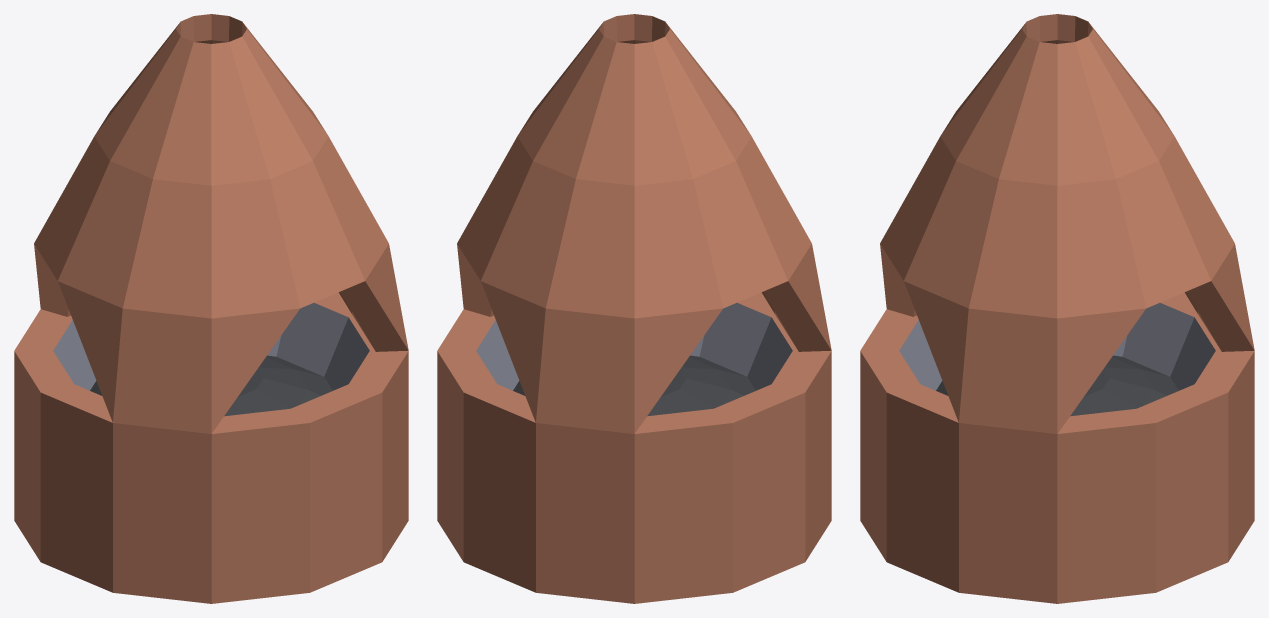
File: Furnace.fbx
3 views of the same model, side by side, from view 1: azimuth 30°, elevation 25°; view 2: azimuth 150°, elevation 25°; view 3: azimuth 270°, elevation 25° (orthographic).
Parts seen in each view (by area): view 1: Furnace; view 2: Furnace; view 3: Furnace.
Part boxes in pixels (bbox=[...]): Furnace: bbox=[14, 14, 408, 603]; Furnace: bbox=[437, 14, 831, 603]; Furnace: bbox=[860, 14, 1254, 603].
Size of the model in its own units: 280 by 385 by 280.
